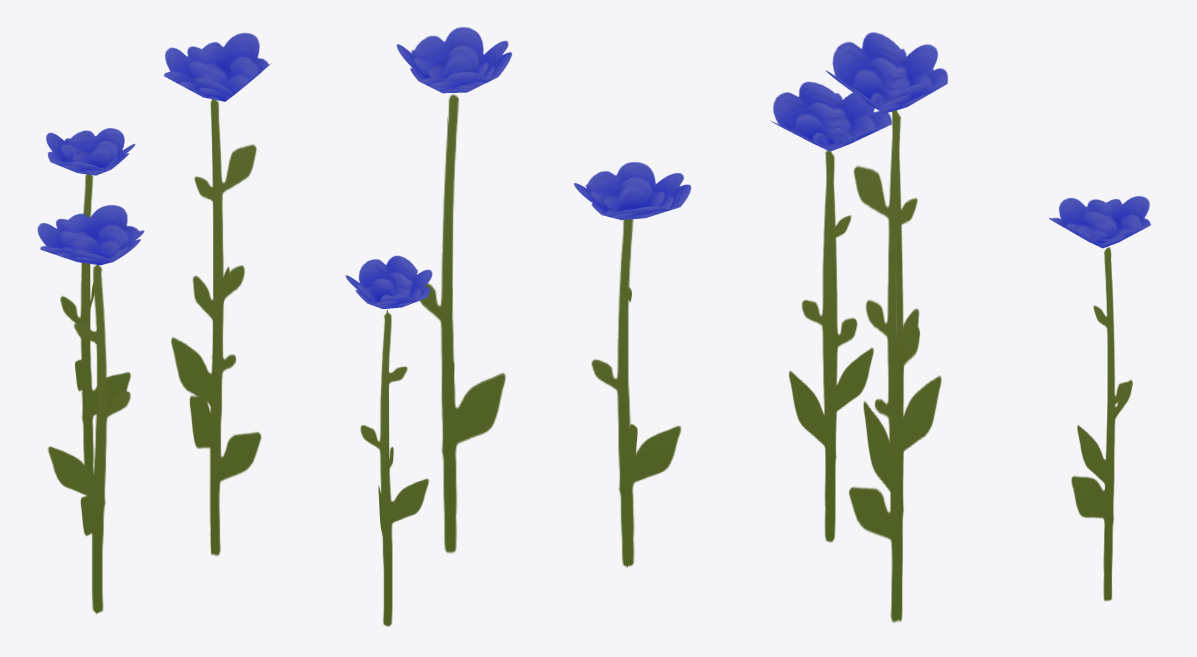
Rendered from flower04.glb.
The picture shows the model from 3 angles, left to right: view 1: azimuth 30°, elevation 25°; view 2: azimuth 150°, elevation 25°; view 3: azimuth 270°, elevation 25°; orthographic projection. The views are drawn at different scales.
Visible parts, largest first — view 1: Flower04; view 2: Flower04; view 3: Flower04.
Boxes of the visible parts, bbox=[...] form: Flower04: bbox=[37, 32, 271, 614]; Flower04: bbox=[345, 27, 691, 626]; Flower04: bbox=[771, 32, 1150, 622].
Size of the model in its own units: 0.2125 by 0.3439 by 0.2445.
Materials: 1 (1 with a texture image).
